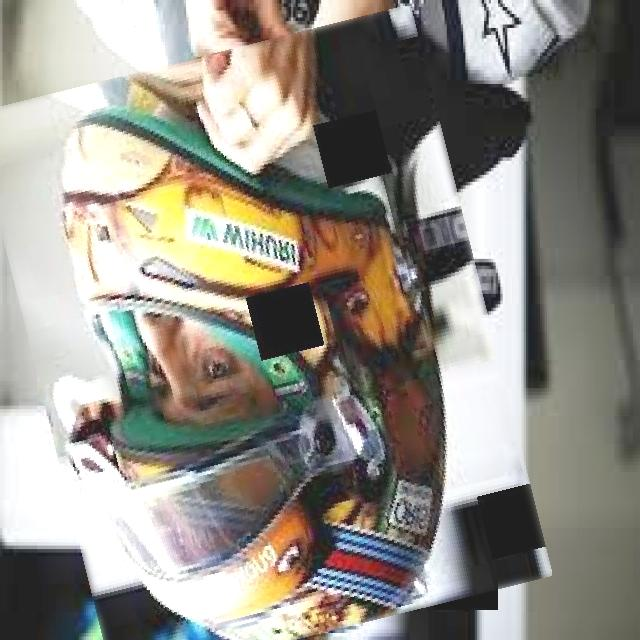helmet: (3, 29, 520, 640)
